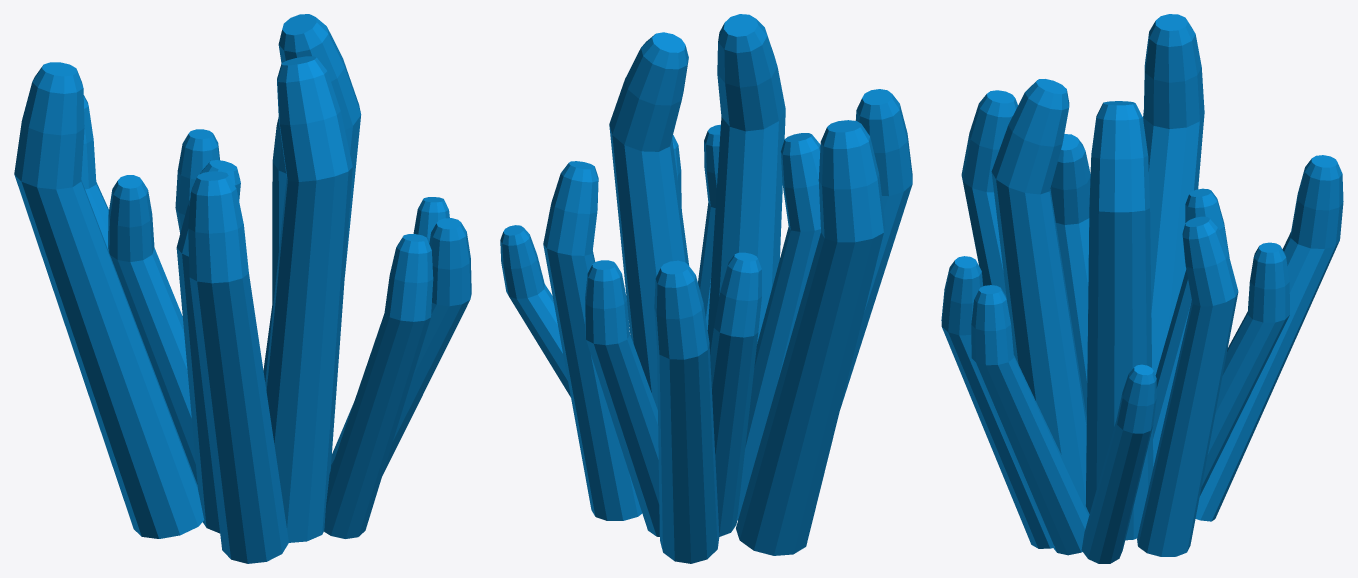
The model's file is Coral 5.glb.
The picture shows the model from 3 angles, left to right: view 1: azimuth 30°, elevation 25°; view 2: azimuth 150°, elevation 25°; view 3: azimuth 270°, elevation 25°; orthographic projection. The views are drawn at different scales.
Visible parts, largest first — view 1: Cylinder.011; view 2: Cylinder.011; view 3: Cylinder.011.
Part boxes in pixels (box(x1,y1,x2,y2)): Cylinder.011: box(14, 14, 471, 563); Cylinder.011: box(500, 14, 912, 563); Cylinder.011: box(941, 14, 1343, 563).
Bounding box in the file's own units: 0.8844 × 1.01 × 0.8224.
